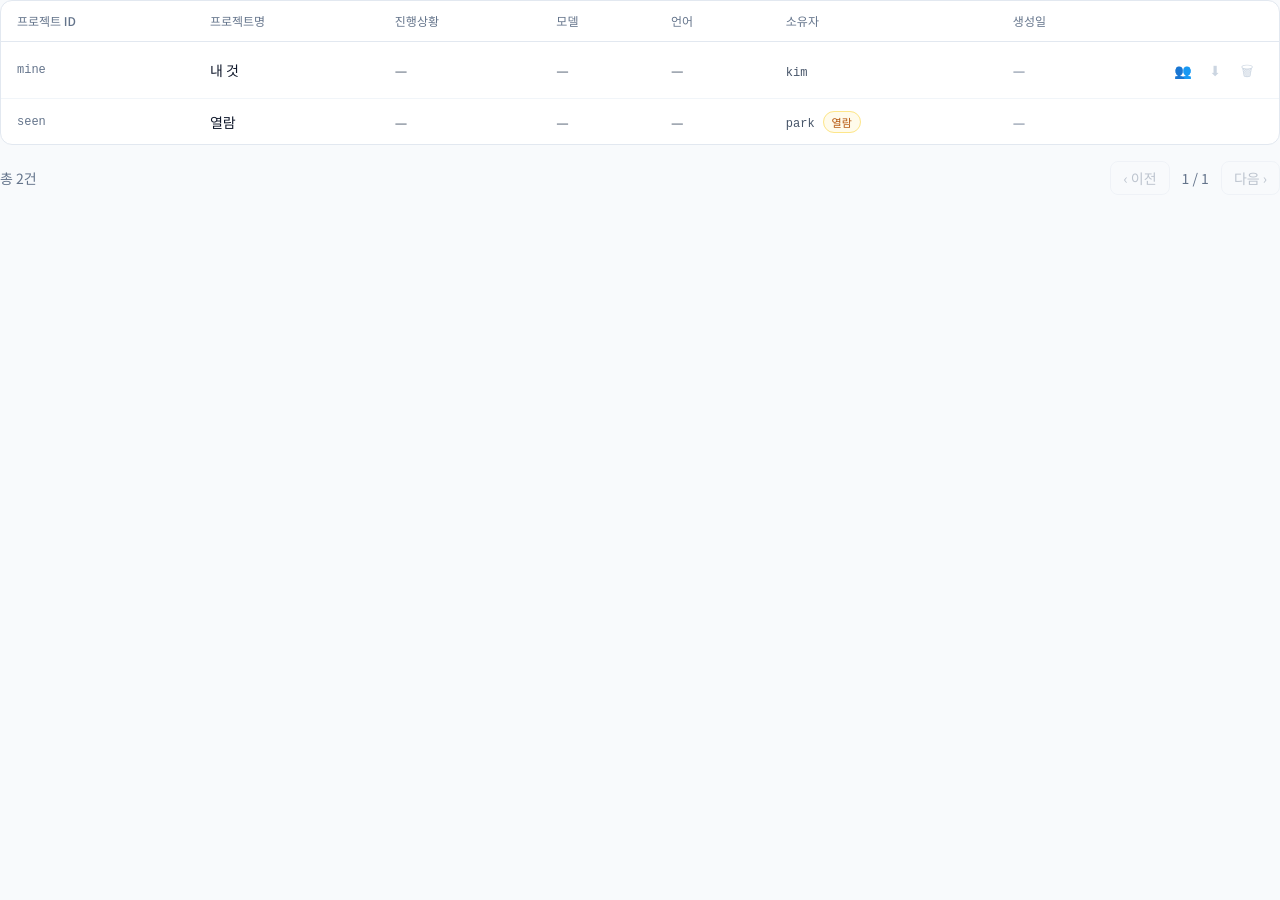
Test: ProjectList 접근 › opens access management with the current viewers
Click the button named "내 것 접근 관리": point(1183, 70) [1167,54,1199,86]
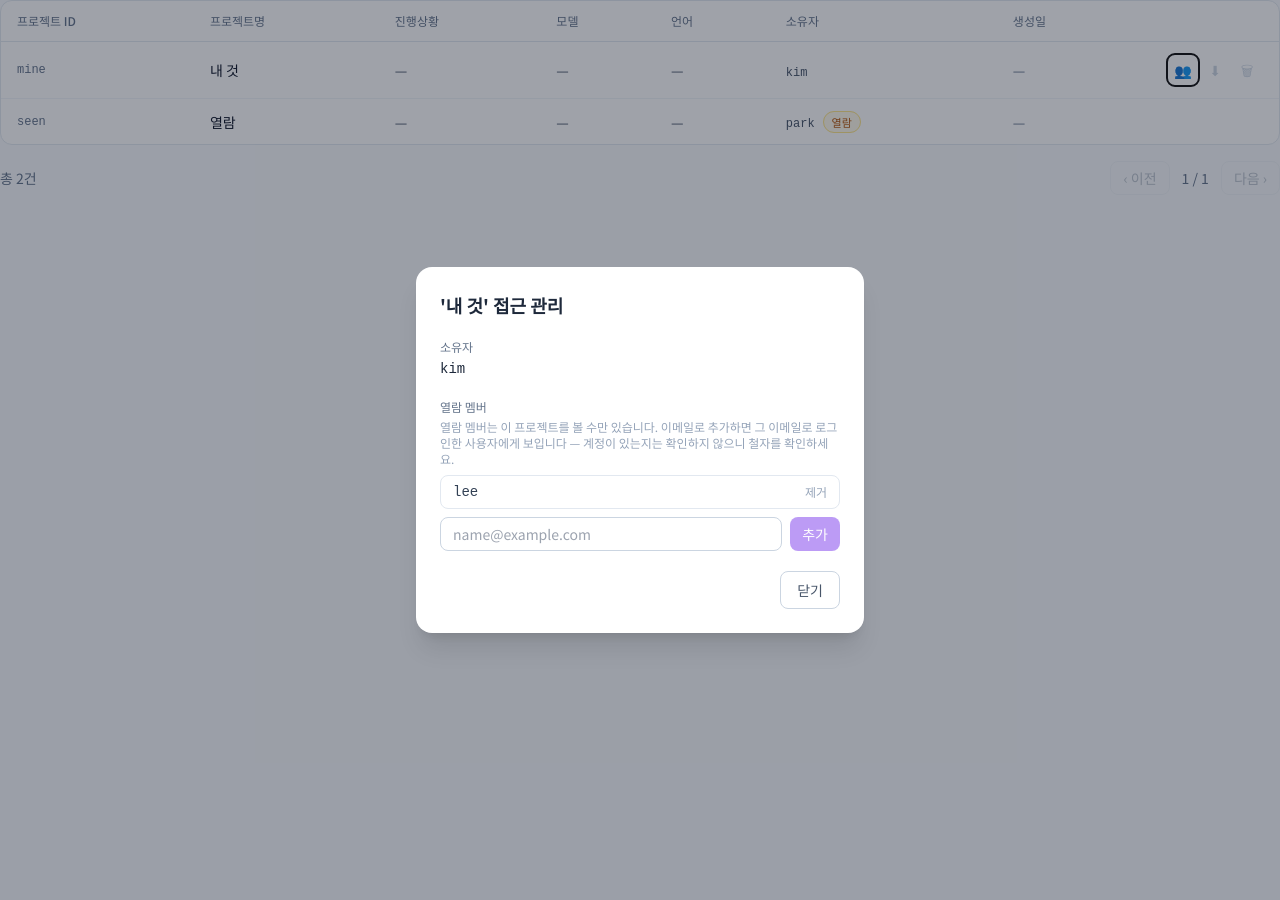
Result: the dialog shows "lee" at [453,484,478,500]
